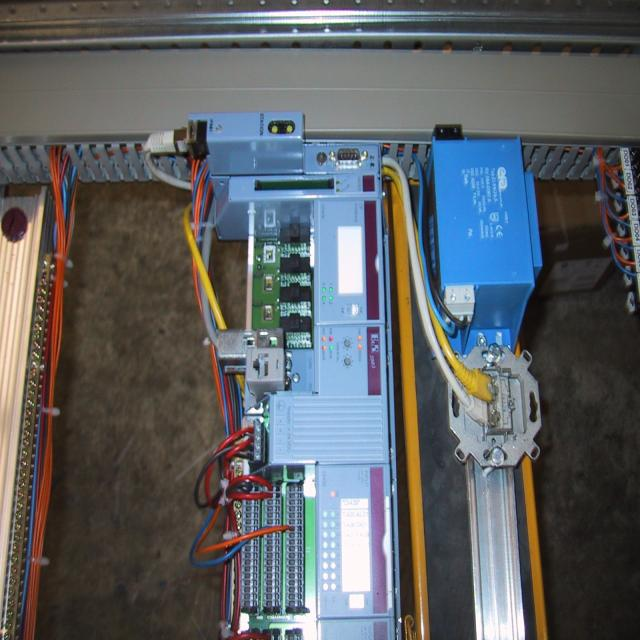SPS_System_Steuerungskomponente: (268, 328, 389, 466), (320, 467, 393, 618), (323, 202, 387, 328)
